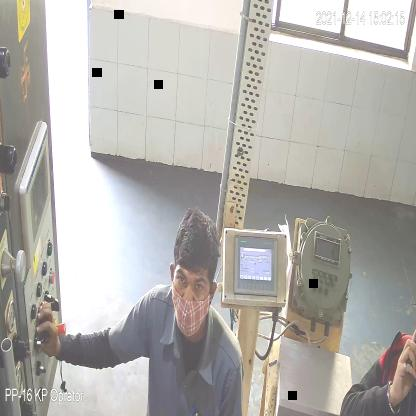no_goggles: (174, 266, 208, 299)
